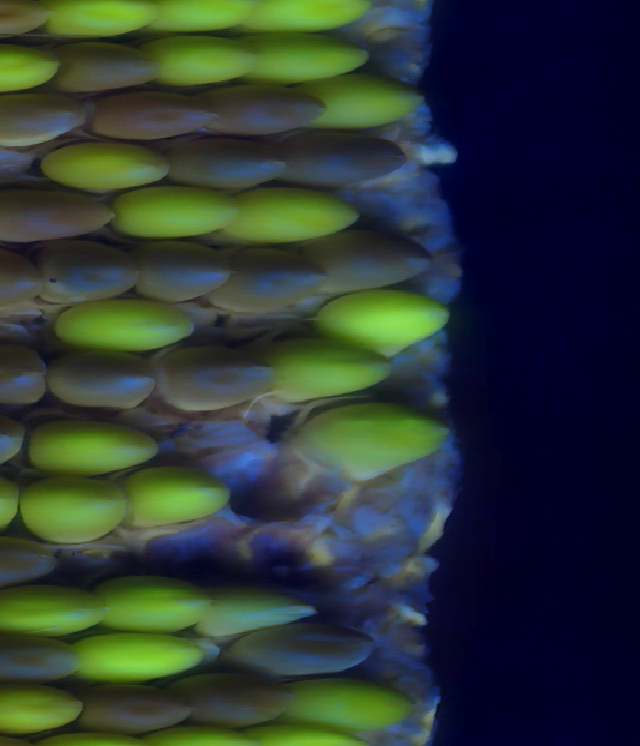fluorescent: (303, 401, 441, 479), (313, 287, 454, 360), (6, 471, 133, 543), (265, 334, 397, 398), (23, 417, 158, 479), (33, 133, 165, 192), (106, 184, 241, 240), (288, 676, 429, 729), (239, 184, 365, 242), (129, 463, 233, 530), (64, 304, 197, 355), (202, 576, 316, 634), (70, 636, 216, 679), (317, 76, 426, 133), (96, 573, 204, 630), (0, 679, 96, 740), (154, 37, 254, 89), (0, 582, 97, 631), (246, 33, 371, 71), (239, 1, 371, 34), (50, 1, 159, 40), (0, 50, 62, 92), (161, 1, 235, 31)
nonfluorescent: (154, 346, 278, 414), (313, 223, 428, 289), (55, 349, 159, 416), (235, 627, 380, 673), (36, 240, 144, 301), (73, 678, 197, 731), (228, 240, 316, 313), (281, 130, 412, 179), (202, 76, 326, 126), (93, 92, 212, 143), (44, 43, 159, 95), (0, 187, 115, 237), (193, 673, 294, 729), (177, 134, 280, 188), (139, 247, 232, 304), (0, 97, 93, 143), (0, 629, 80, 676), (0, 340, 54, 408), (0, 534, 70, 582), (0, 247, 39, 311), (0, 1, 53, 47)
